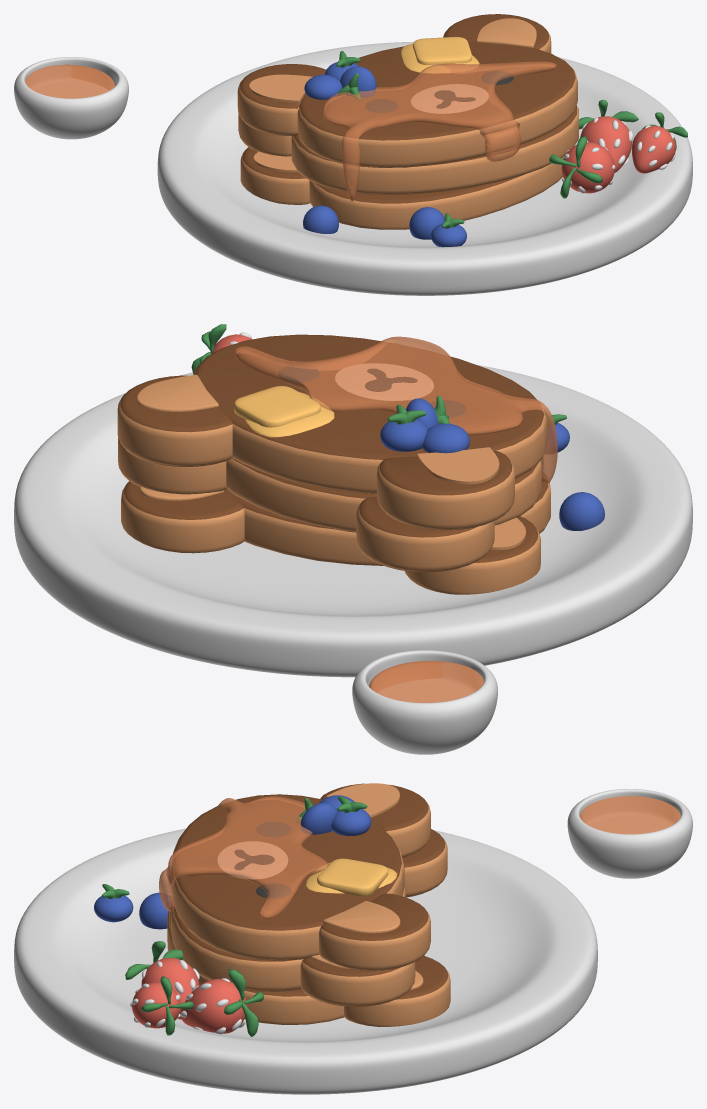
The model's file is rilakkuma.fbx.
3 renders of one model, top to bottom at view 1: azimuth 30°, elevation 25°; view 2: azimuth 150°, elevation 25°; view 3: azimuth 270°, elevation 25°, orthographic. The views are drawn at different scales.
Parts seen in each view (by area): view 1: Circle, Circle.001, Plane.001, Circle.003, Circle.002, Circle.004, Sphere.007, Sphere.006, Sphere.008, Cube, Sphere.001, Sphere.003 (+5 smaller); view 2: Circle, Circle.001, Circle.003, Circle.002, Plane.001, Circle.004, Cube, Sphere, Sphere.005, Cube.001, Sphere.002, Sphere.008 (+1 smaller); view 3: Circle, Circle.001, Plane.001, Circle.002, Circle.004, Circle.003, Sphere.006, Sphere.008, Sphere.007, Cube, Sphere, Sphere.003 (+3 smaller).
Boxes of the visible parts, x1,y1,x2,y2 form: Circle: (157, 42, 692, 295); Circle.001: (237, 14, 577, 167); Plane.001: (322, 61, 556, 201); Circle.003: (240, 147, 564, 229); Circle.002: (238, 105, 578, 194); Circle.004: (14, 57, 128, 139); Sphere.007: (549, 136, 615, 198); Sphere.006: (579, 99, 638, 172); Sphere.008: (631, 112, 687, 173); Cube: (413, 37, 471, 64); Sphere.001: (338, 66, 376, 100); Sphere.003: (431, 213, 466, 247); Circle: (14, 365, 692, 677); Circle.001: (117, 334, 547, 529); Circle.003: (121, 478, 550, 594); Circle.002: (118, 437, 541, 572); Plane.001: (234, 336, 557, 482); Circle.004: (352, 650, 497, 754); Cube: (234, 386, 320, 427); Sphere: (380, 404, 427, 451); Sphere.005: (559, 492, 604, 530); Cube.001: (245, 392, 334, 437); Sphere.002: (422, 423, 469, 453); Sphere.008: (191, 324, 251, 373); Circle: (14, 828, 597, 1094); Circle.001: (171, 783, 430, 970); Plane.001: (159, 796, 328, 919); Circle.002: (170, 829, 447, 1006); Circle.004: (567, 789, 692, 878); Circle.003: (167, 911, 450, 1026); Sphere.006: (180, 969, 264, 1036); Sphere.008: (130, 976, 193, 1035); Sphere.007: (125, 941, 199, 1019); Cube: (317, 858, 388, 895); Sphere: (331, 796, 371, 835); Sphere.003: (94, 884, 133, 922).
Size of the model in its own units: 57.18 by 14.82 by 63.33.
